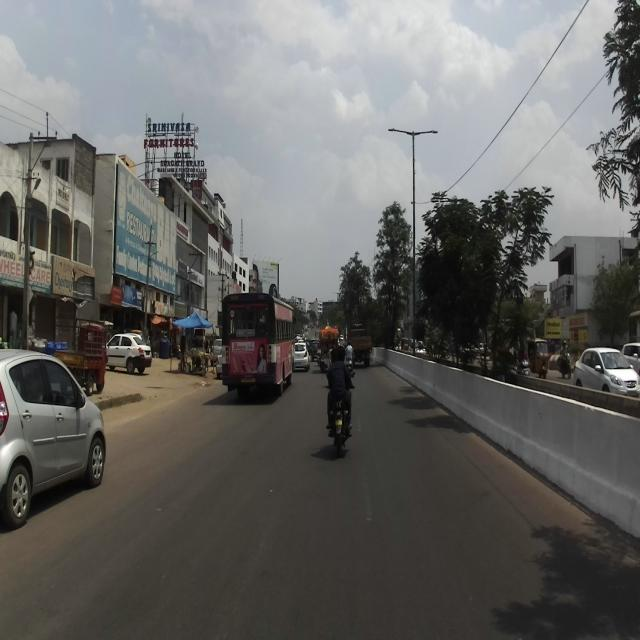Car_Honda: (573, 344, 639, 396)
Car_Maruti-Suzuki: (0, 348, 106, 528)
autorickshaw: (54, 316, 107, 396)
motorcycle_bajaj: (327, 371, 356, 456)
